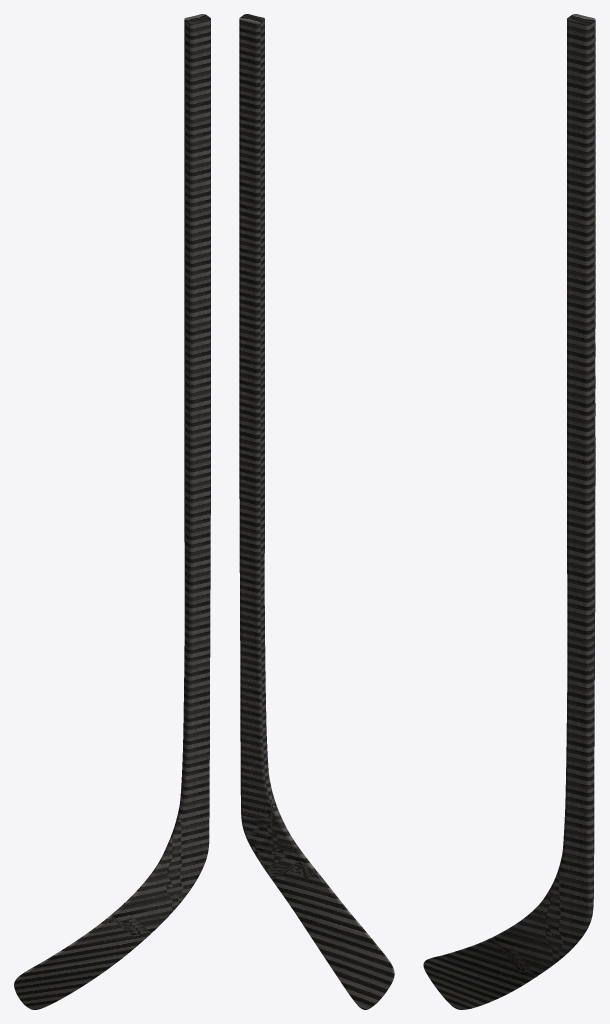
File: P02-SBT.glb
3 renders of one model, left to right at view 1: azimuth 30°, elevation 25°; view 2: azimuth 150°, elevation 25°; view 3: azimuth 330°, elevation 25°, orthographic. The views are drawn at different scales.
Parts seen in each view (by area): view 1: geometry_0; view 2: geometry_0; view 3: geometry_0.
Part boxes in pixels (x1,y1,x2,y2): geometry_0: (14, 14, 210, 1009); geometry_0: (239, 14, 394, 1009); geometry_0: (423, 14, 595, 1009).
Size of the model in its own units: 243 by 1284 by 67.58.
Materials: 1 (1 with a texture image).
